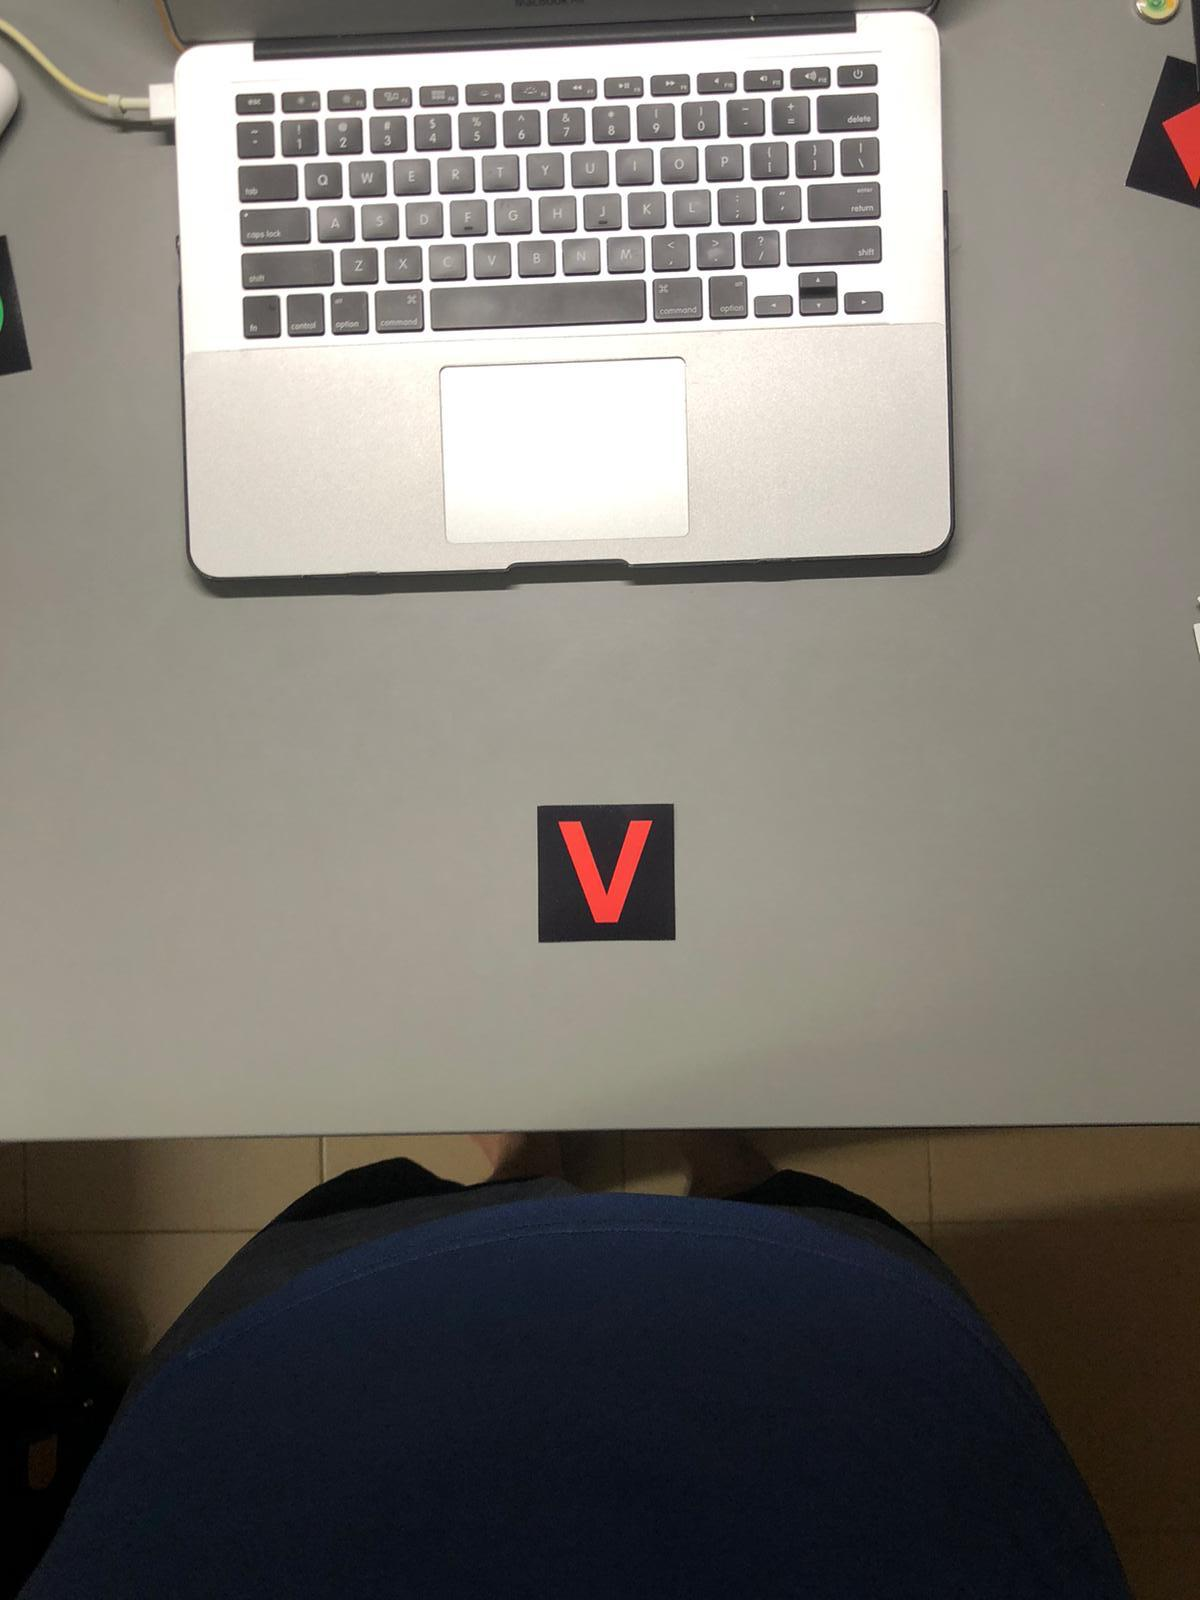V: (528, 805, 684, 944)
